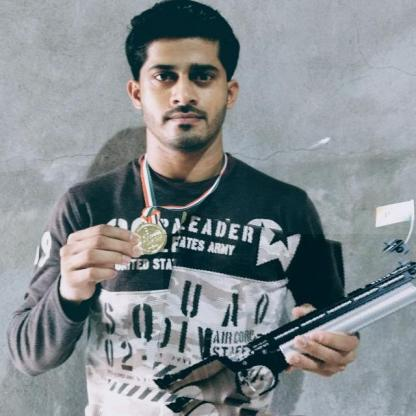handgun: (155, 222, 416, 416)
